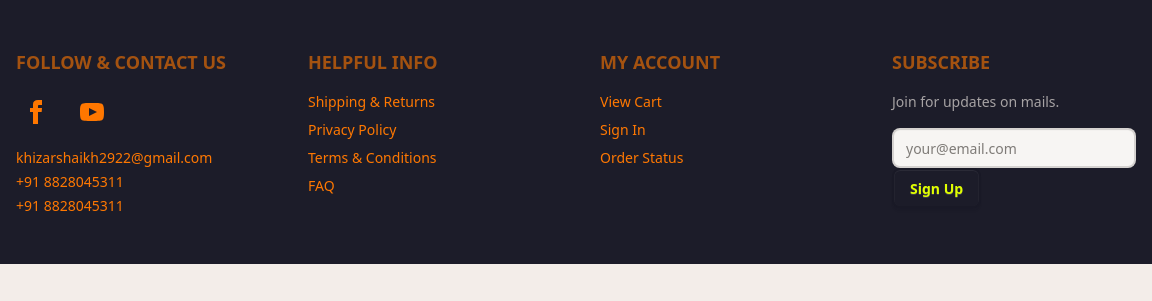
Footer Component › should handle API error on subscription
This screenshot has width=1152, height=301.
Type "test@example.com" into the field with placeholder "your@email.com" at point(1014, 148), box [892,128,1136,168]
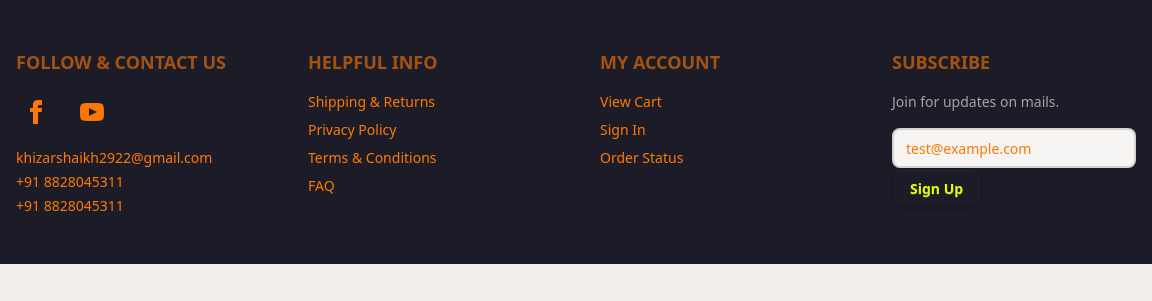
Click the button "Sign Up" at point(937, 188), box [892,168,981,208]
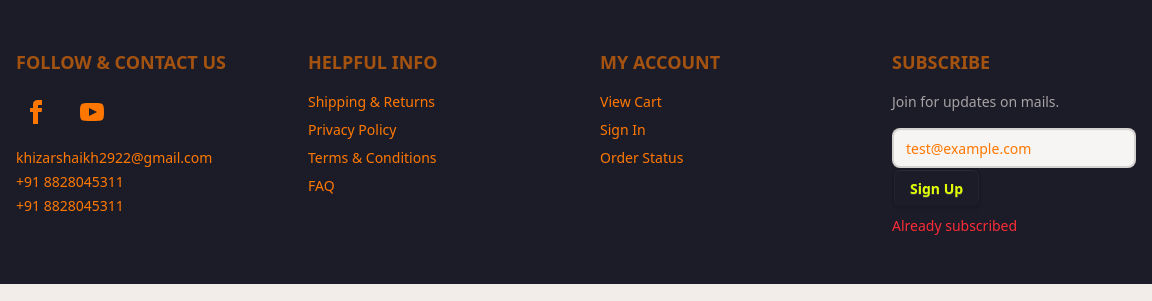
Now the text "Already subscribed" is shown, box [892,216,1017,235]
